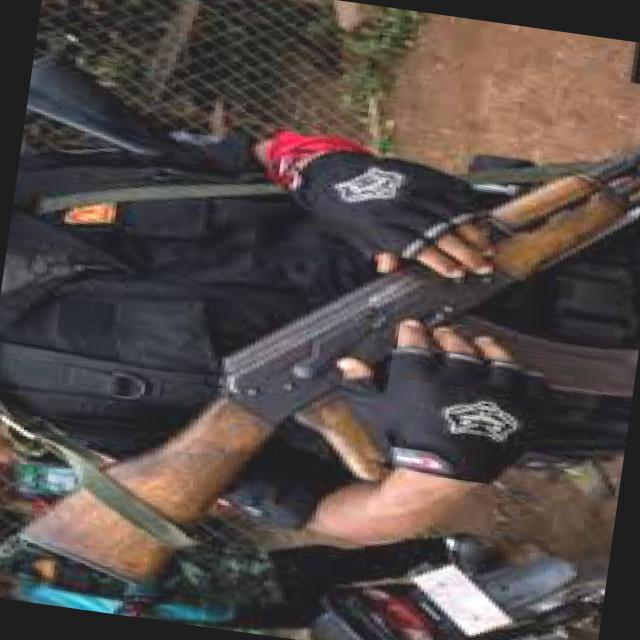long weapon: (0, 136, 640, 597)
